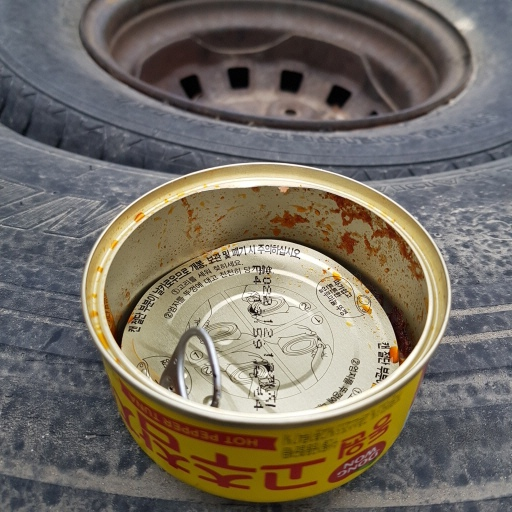Metal_1: (79, 161, 452, 503)
